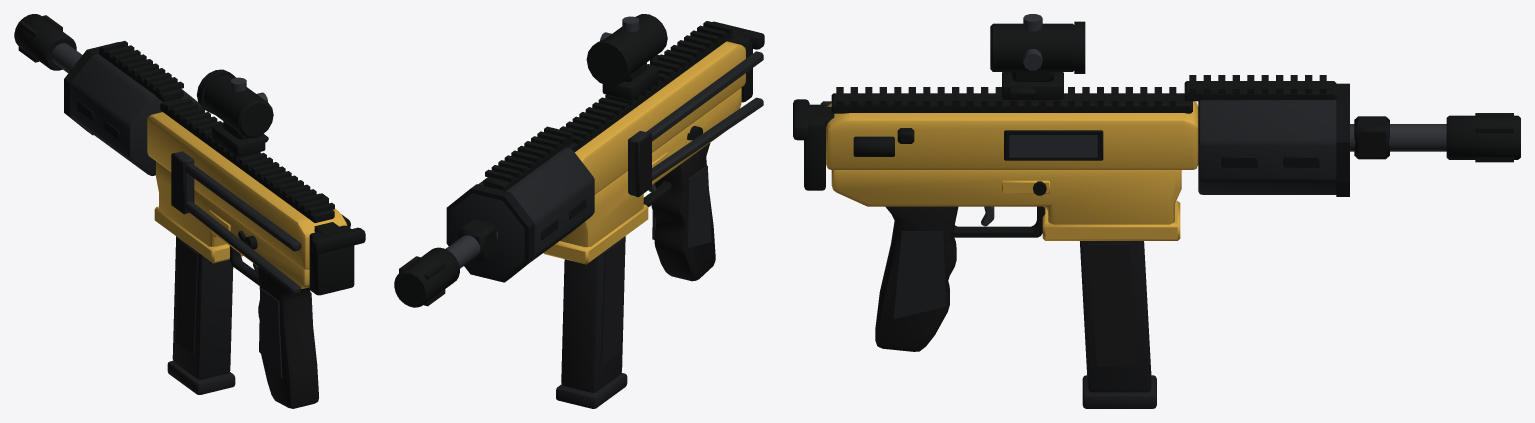
The model's file is gun_46.glb.
3 views of the same model, side by side, from view 1: azimuth 30°, elevation 25°; view 2: azimuth 150°, elevation 25°; view 3: azimuth 270°, elevation 25° (orthographic). The views are drawn at different scales.
Visible parts, largest first — view 1: gun_46; view 2: gun_46; view 3: gun_46.
Part boxes in pixels (x1,y1,x2,y2): gun_46: (14,14,365,408); gun_46: (394,14,764,408); gun_46: (793,14,1520,408).
Bounding box in the file's own units: 0.0765 × 0.3055 × 0.528.
